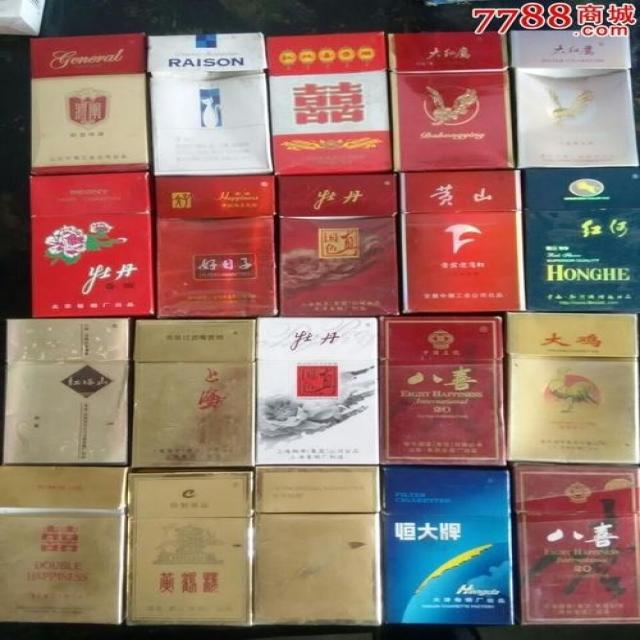box: (380, 465, 516, 625), (253, 465, 381, 627), (125, 467, 252, 627), (1, 465, 125, 627), (506, 313, 636, 464), (515, 464, 637, 623), (379, 316, 507, 465), (3, 318, 129, 467), (27, 173, 156, 318), (508, 26, 639, 168), (387, 32, 518, 174), (131, 320, 256, 467), (257, 318, 380, 465), (266, 35, 393, 175), (402, 169, 525, 312), (279, 173, 401, 316), (154, 176, 276, 318), (148, 35, 271, 175), (525, 166, 640, 313), (31, 34, 148, 178)
